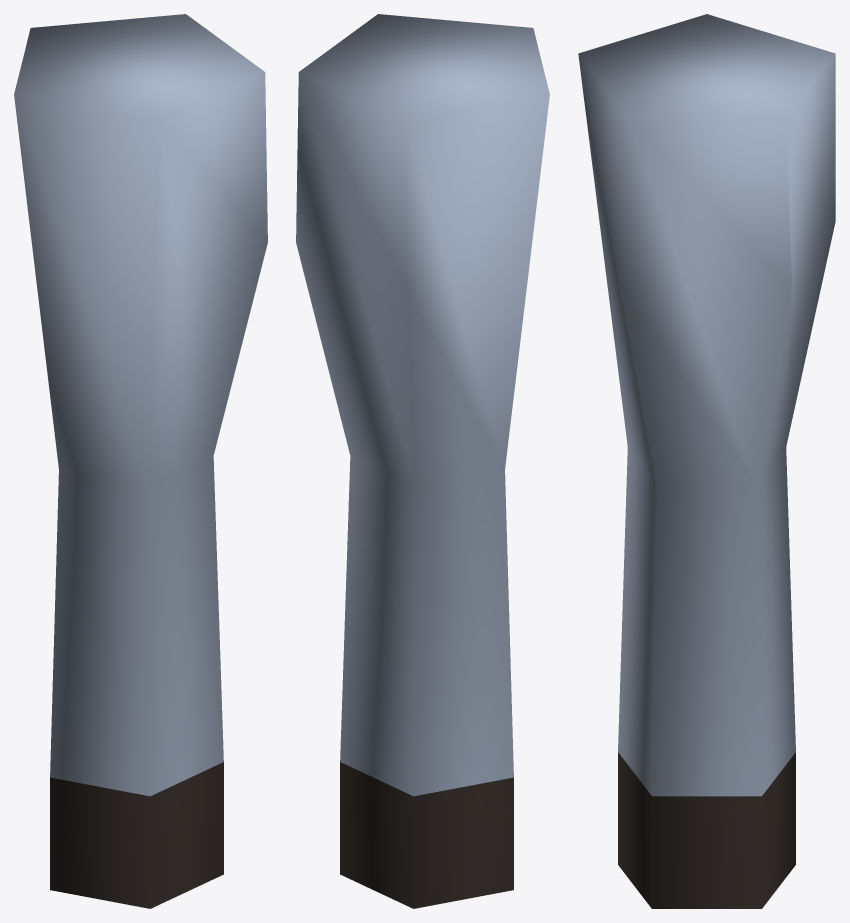
Rendered from animal_thrumbo_leg.obj.
The picture shows the model from 3 angles, left to right: view 1: azimuth 30°, elevation 25°; view 2: azimuth 150°, elevation 25°; view 3: azimuth 270°, elevation 25°; orthographic projection.
Visible parts, largest first — view 1: animal_thrumbo_leg; view 2: animal_thrumbo_leg; view 3: animal_thrumbo_leg.
Boxes of the visible parts, box(x1,y1,x2,y2) form: animal_thrumbo_leg: box(14, 14, 267, 908); animal_thrumbo_leg: box(296, 14, 549, 908); animal_thrumbo_leg: box(578, 14, 835, 908).
Bounding box in the file's own units: 0.3309 × 1.2 × 0.348.
